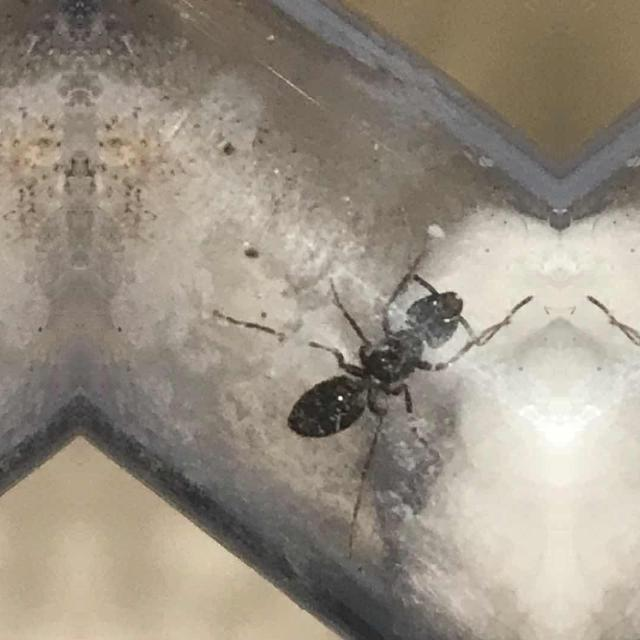Lasius: (272, 247, 492, 471)
